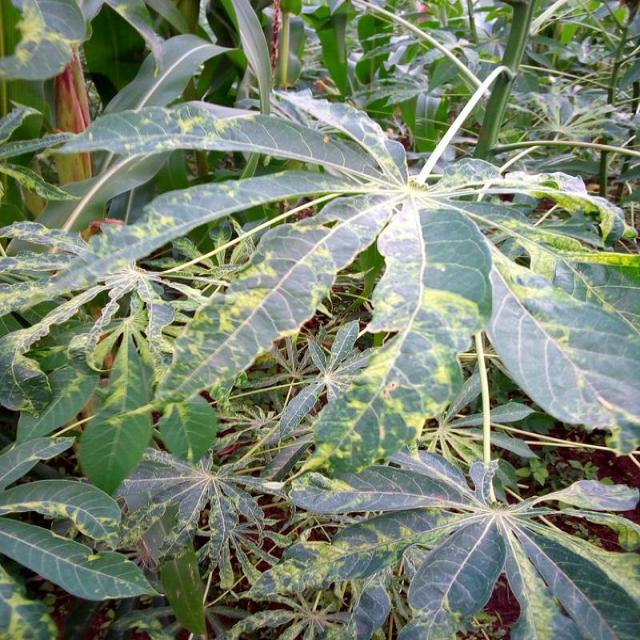Mosaico: (204, 71, 627, 388), (337, 430, 640, 628), (22, 214, 281, 380), (131, 441, 350, 572)
